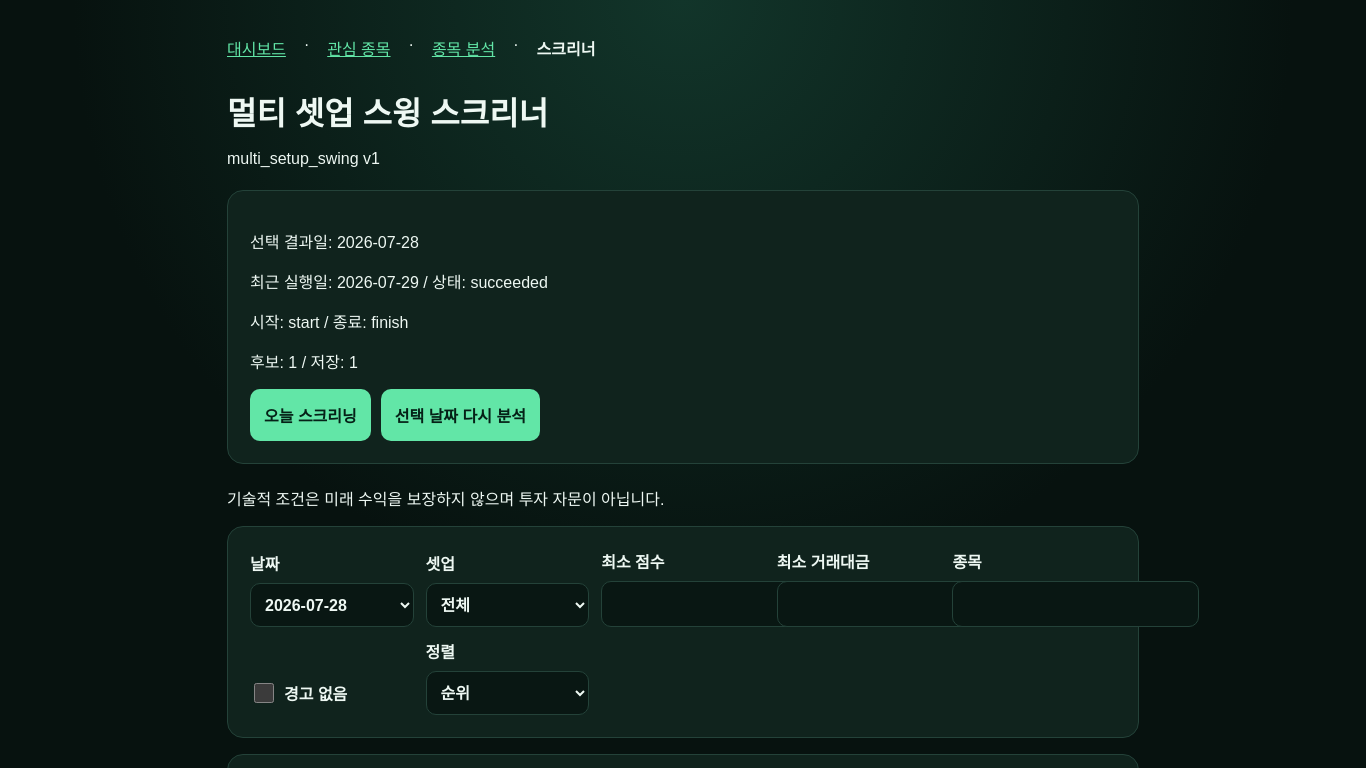
it: ScreenerDashboard › preserves candidates and shows a reanalysis-specific conflict
This screenshot has width=1366, height=768.
Click the button "선택 날짜 다시 분석" at {"x": 460, "y": 415}, box [381,389,540,441]
(page scrolled)
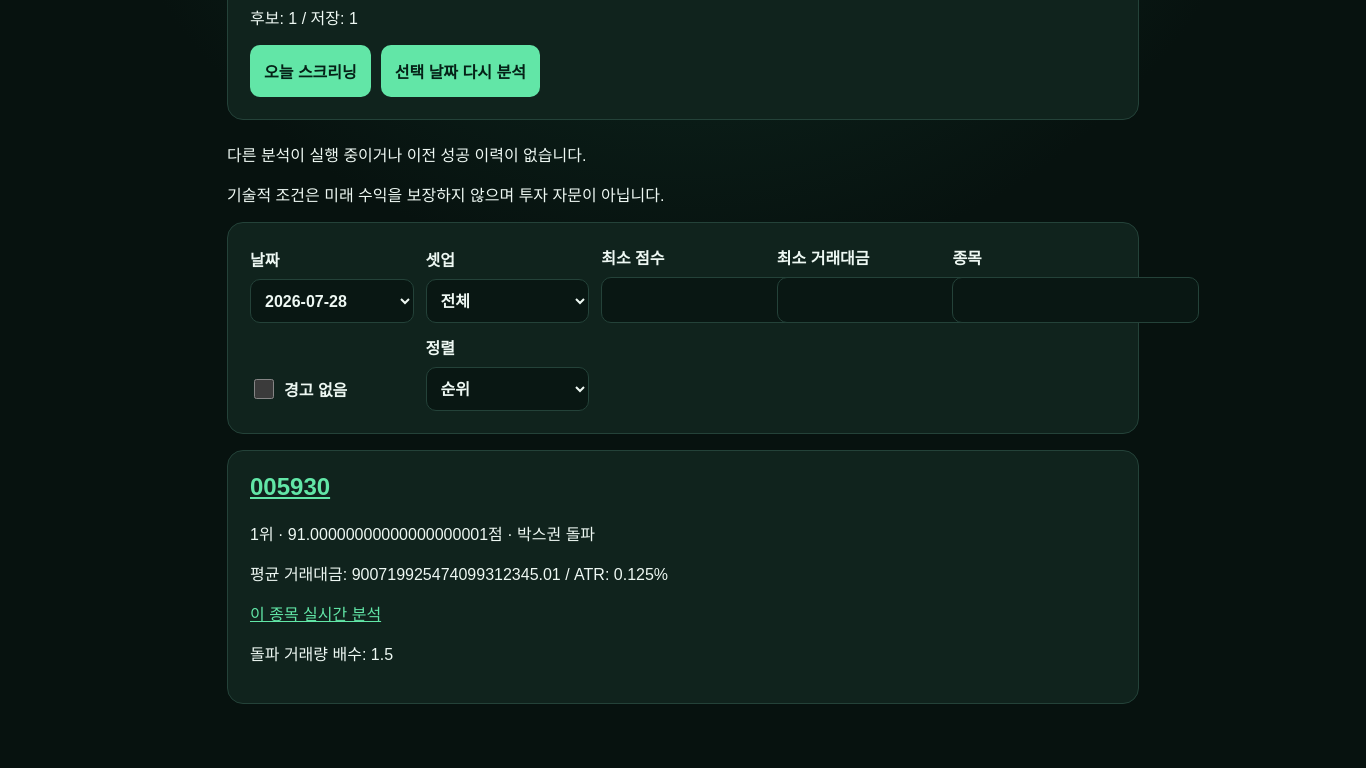
expect the link "005930" is shown: met, box [250,473,330,500]
expect the text "다른 분석이 실행 중이거나 이전 성공 이력이 없습니다." is shown: met, box [227,147,586,164]
